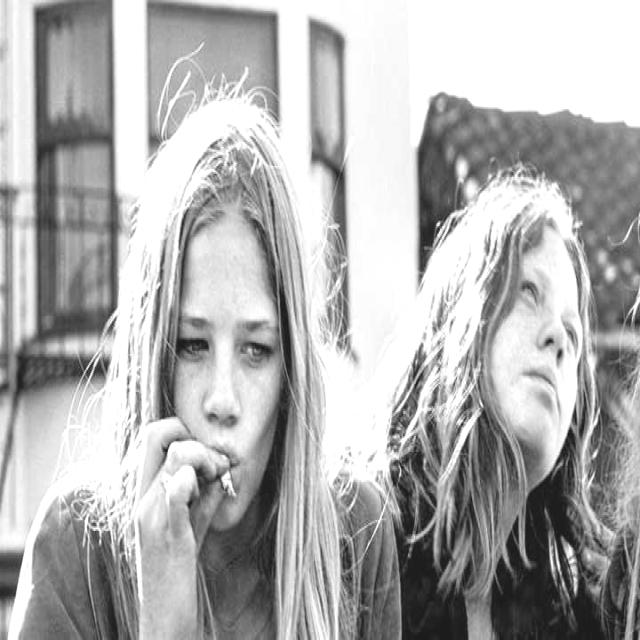Smooking: (216, 463, 242, 511)
